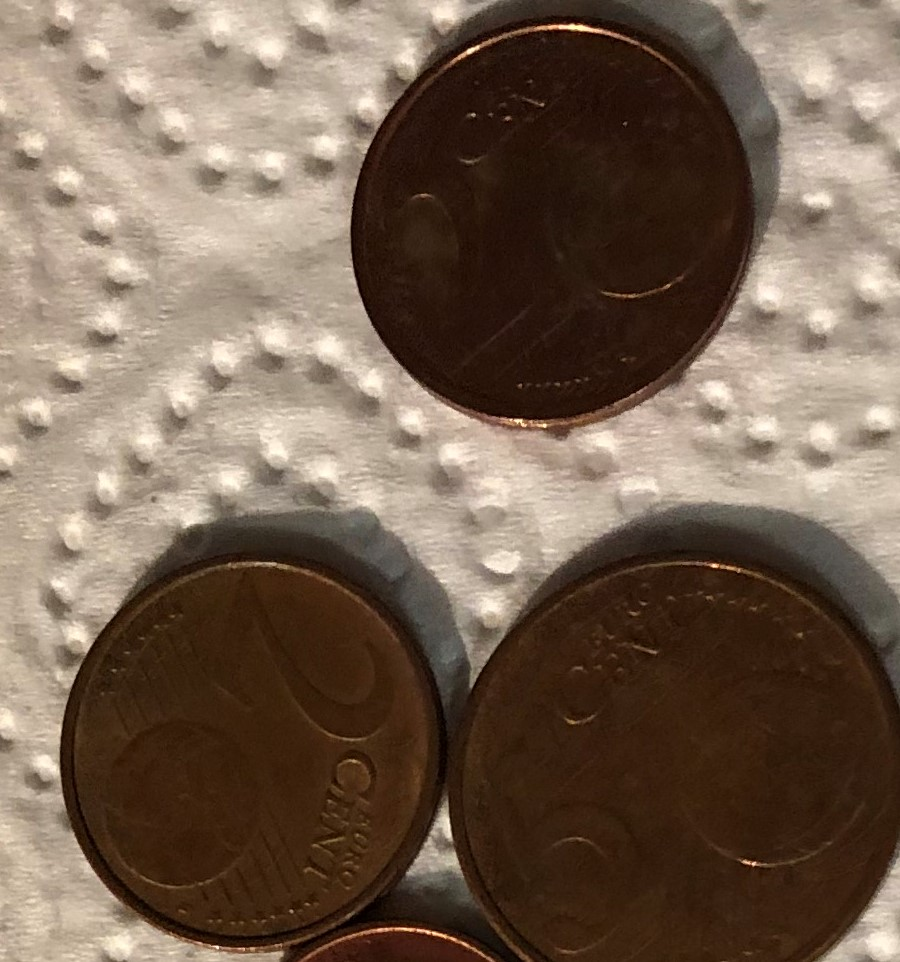2 cent: (350, 23, 763, 437), (60, 542, 448, 937)
5 cent: (453, 547, 898, 955)
